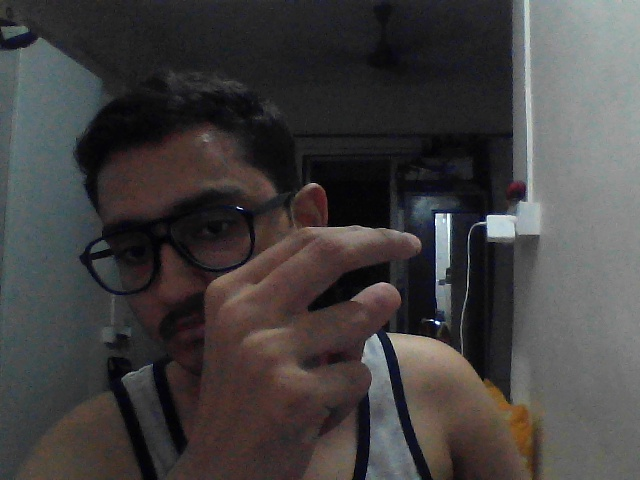No: (147, 198, 464, 474)
